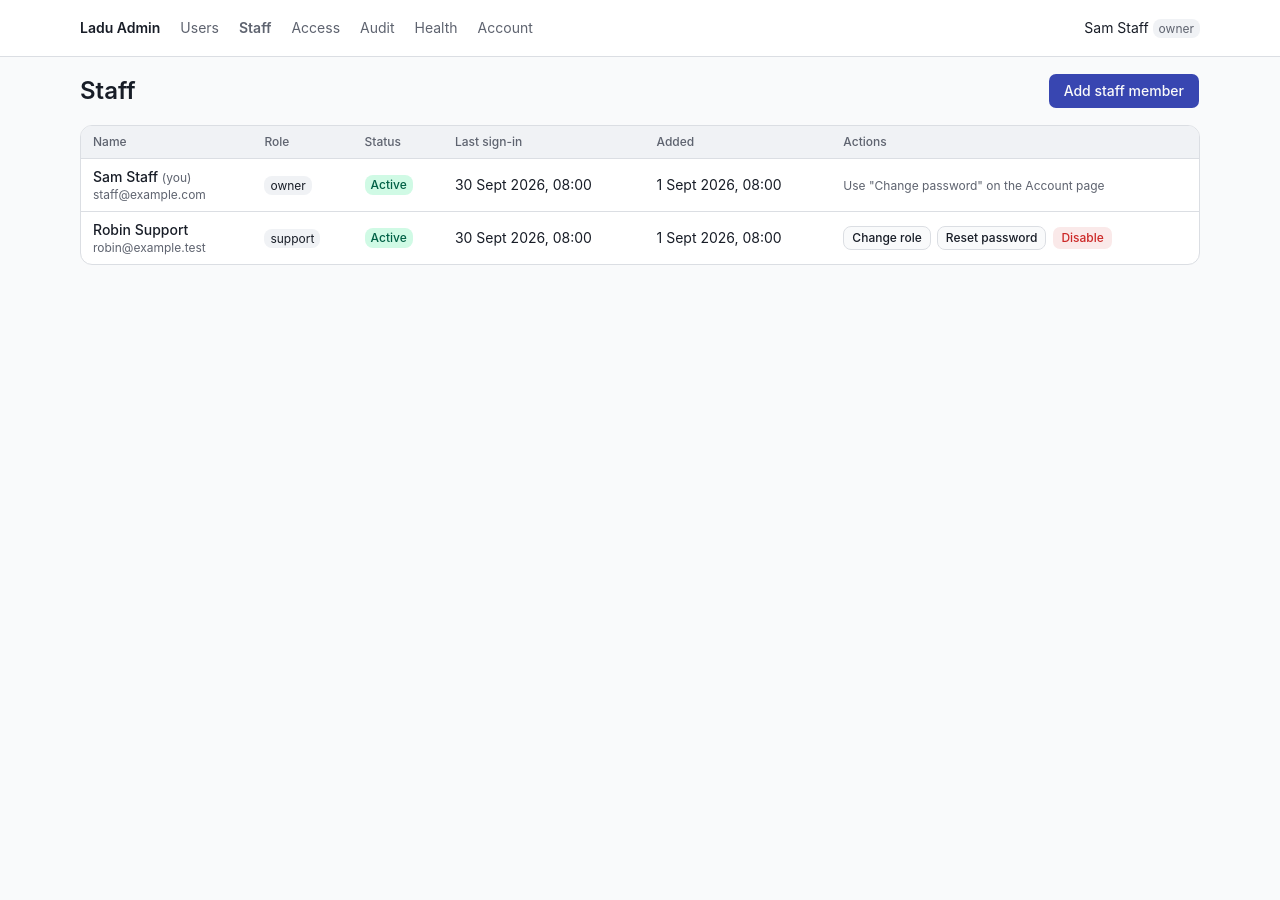
Test: the other actions › change role: disabled until the role differs, then sends it
The image size is (1280, 900).
Expected: the text "Robin Support" is shown, top-left (93, 221), bottom-right (188, 238)
Click the button "Change role": (887, 238) top-left (843, 226), bottom-right (931, 250)
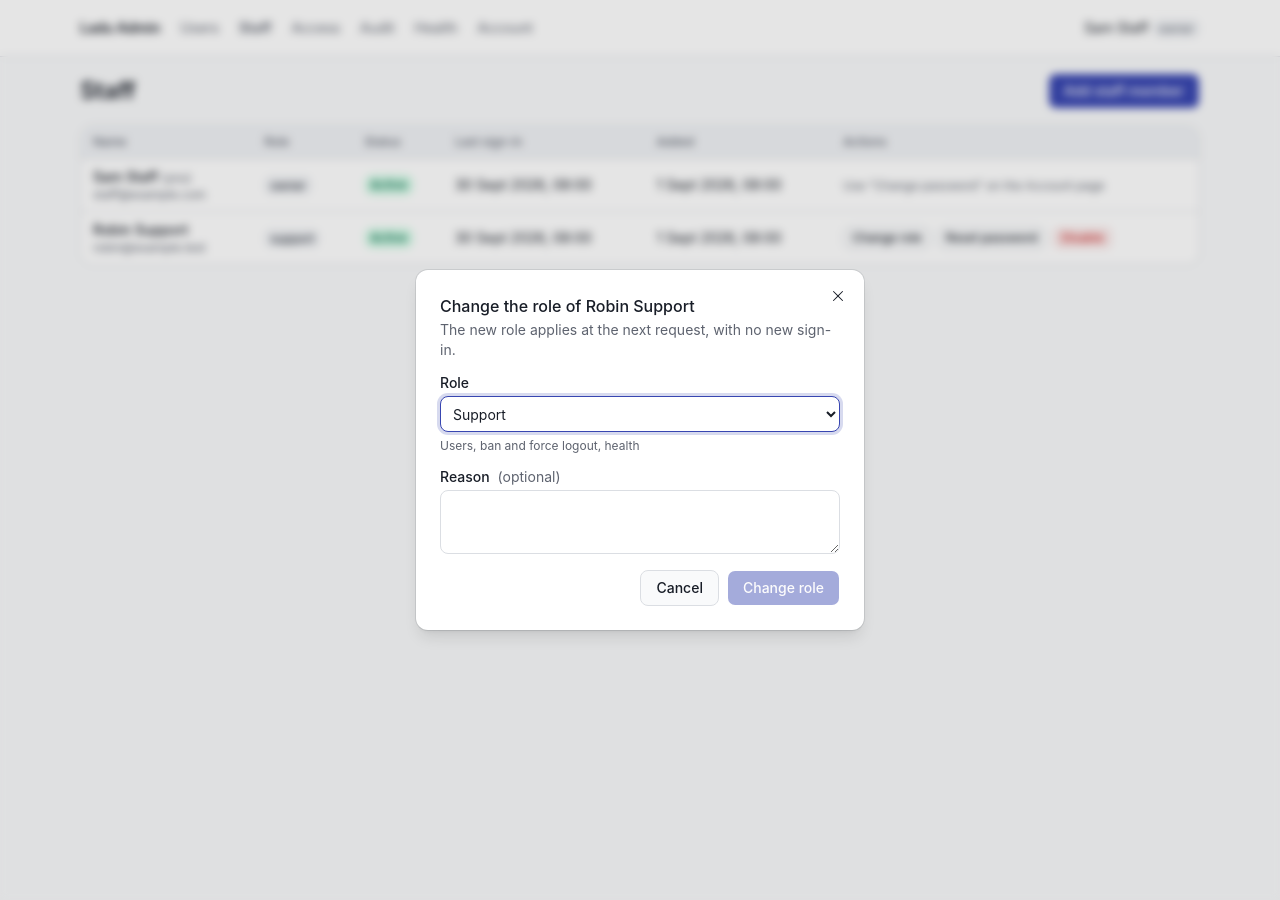
Now the button "Change role" is disabled, box top-left (727, 570), bottom-right (840, 606)
Select "Viewer" in the dropdown labelled "Role": (640, 414) top-left (440, 396), bottom-right (840, 432)
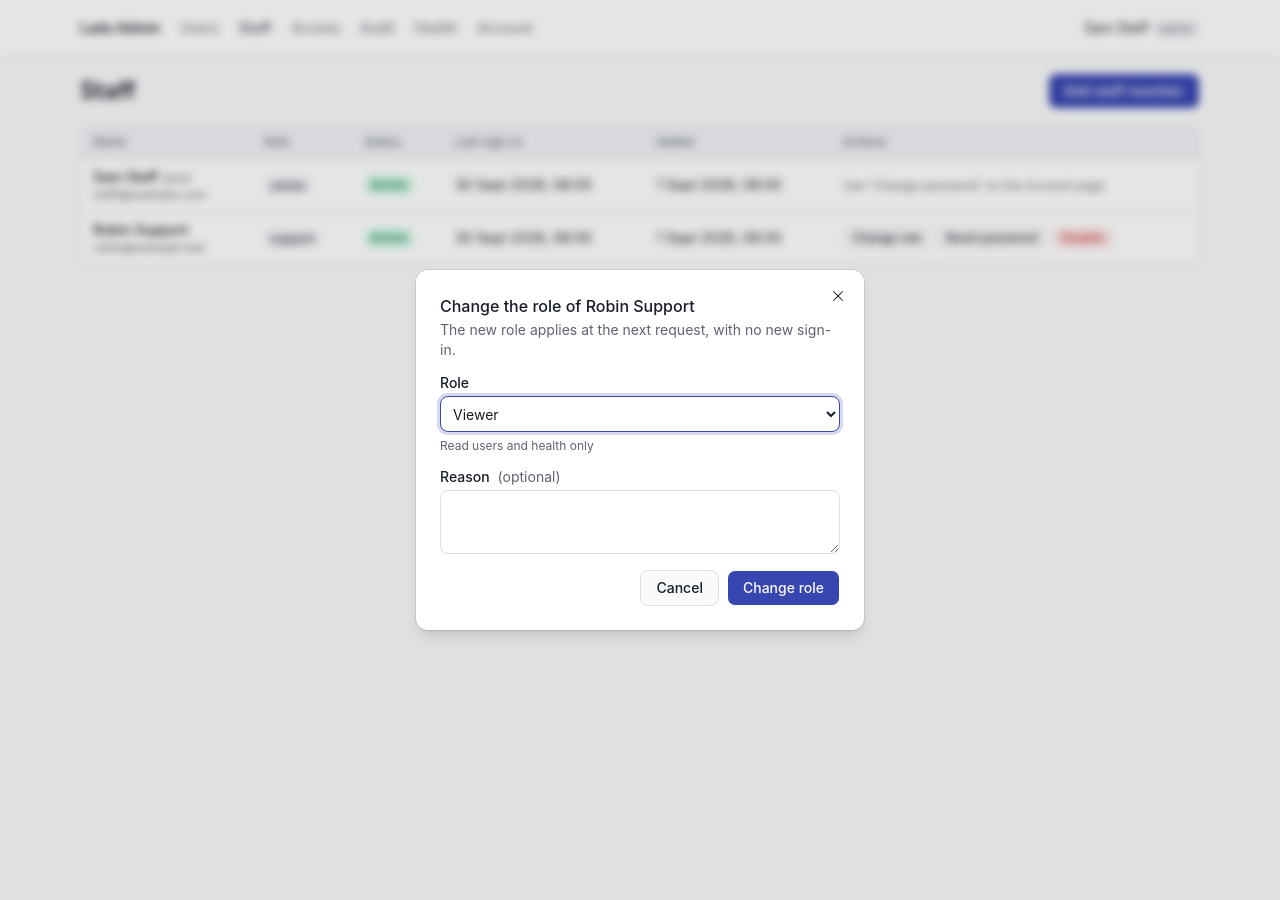
Click the button "Change role": (784, 588) top-left (727, 570), bottom-right (840, 606)
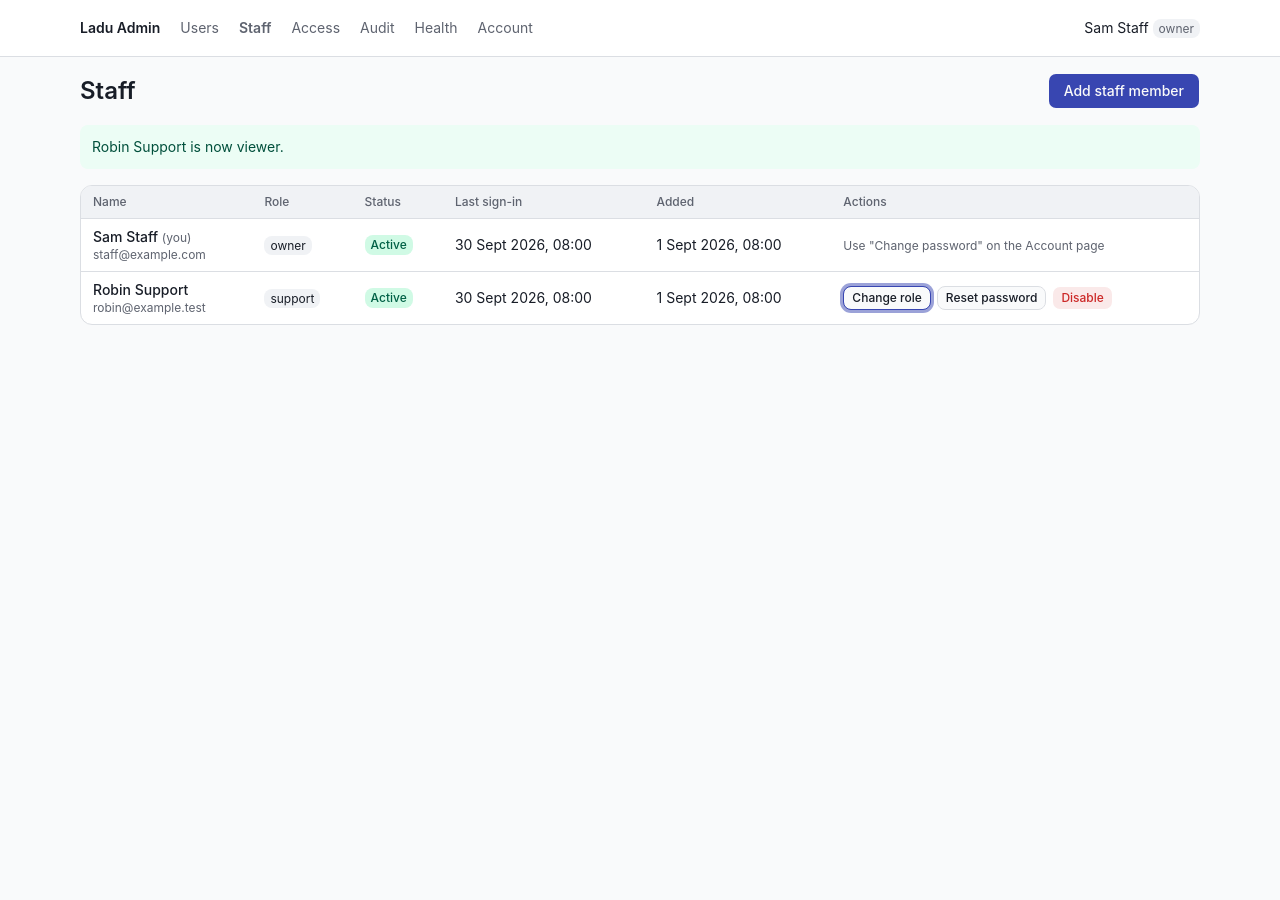
Now the dialog is gone
Now the message reads "Robin Support is now viewer.", box top-left (92, 138), bottom-right (284, 155)
